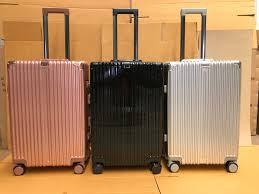luggage: (40, 5, 210, 175), (95, 7, 259, 171), (1, 31, 149, 180)
